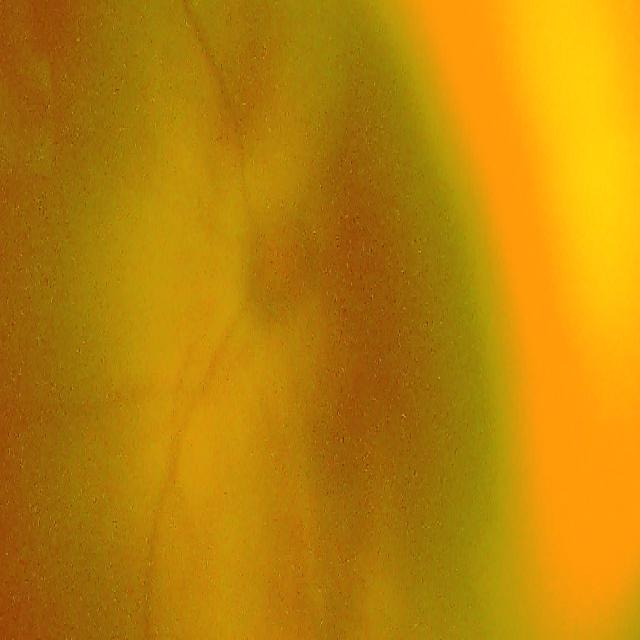optic-nerve: (232, 188, 338, 350)
